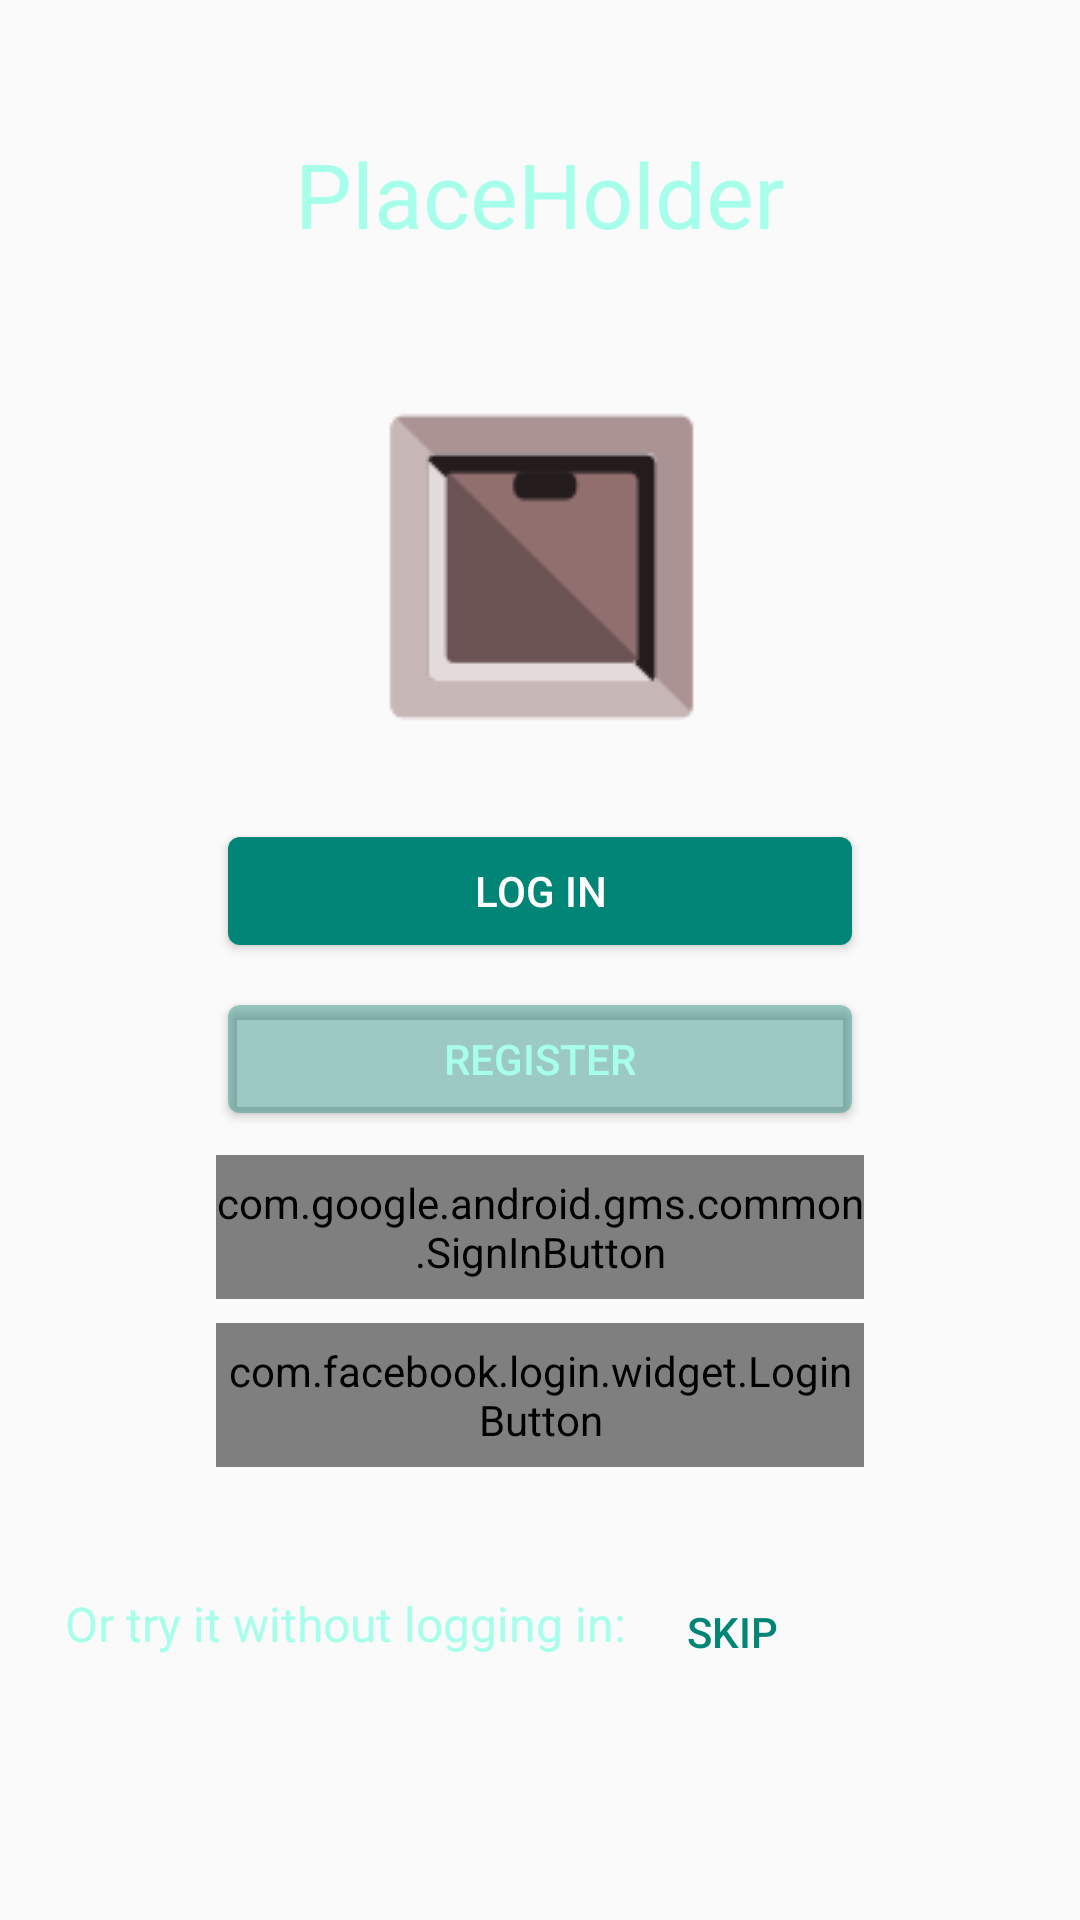

Named icons in this screenshot (1080px x 1920px) and their bounding boxes, rect(x1, y1, x2, y2):
box: rect(390, 415, 694, 718)
